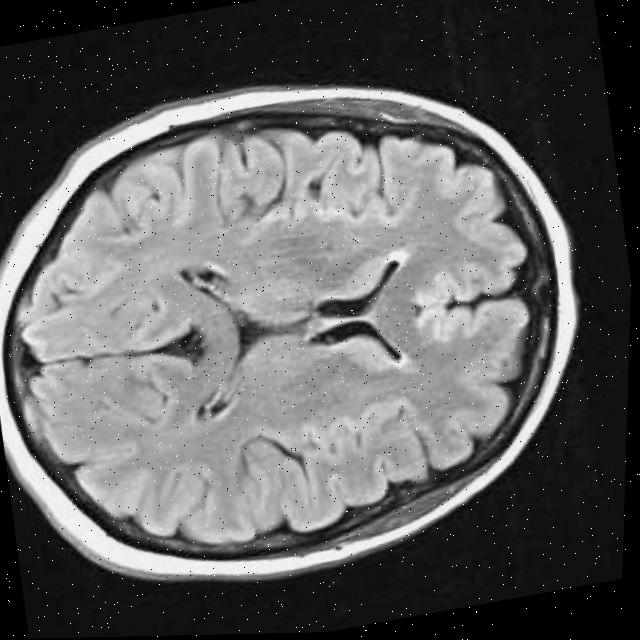NoTumor: (0, 67, 578, 589)
